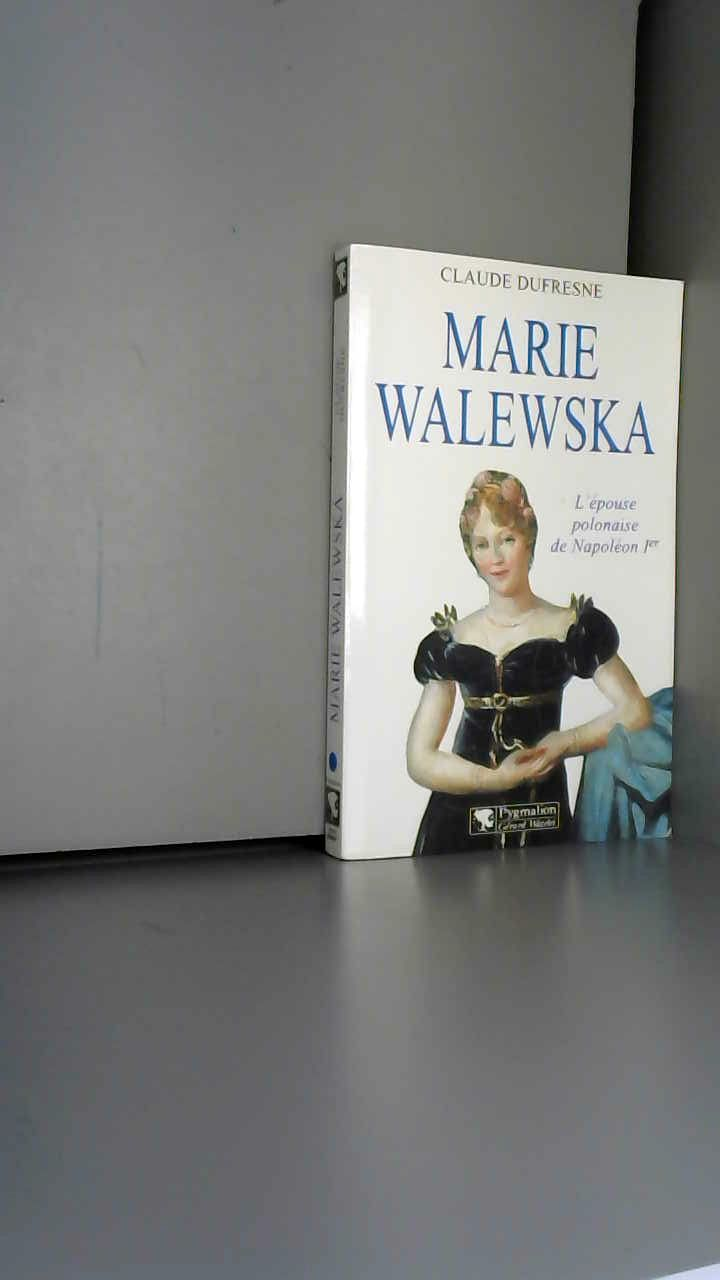book: (300, 220, 716, 920)
